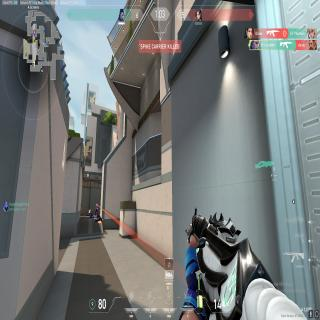ENEMY-BODY: (95, 201, 98, 217)
ENEMY-HEAD: (96, 202, 98, 205)
